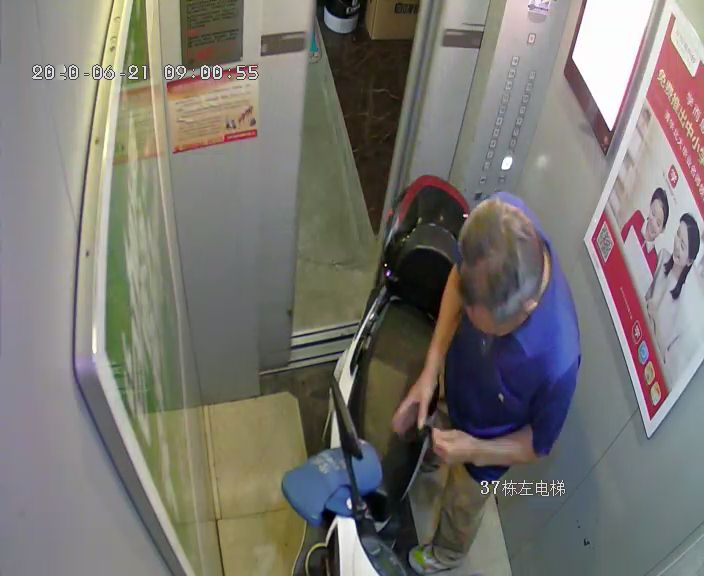Electric-bicycle: (295, 173, 472, 576)
